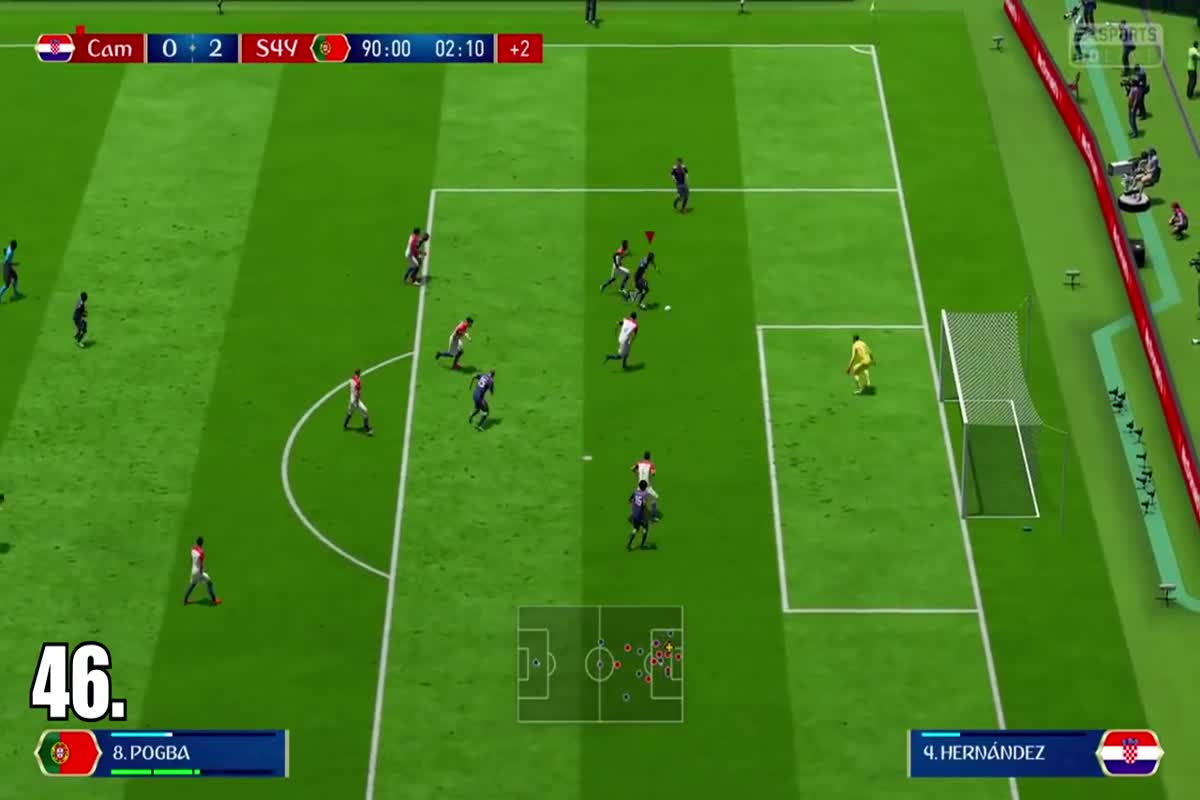ball: (656, 299, 680, 320)
